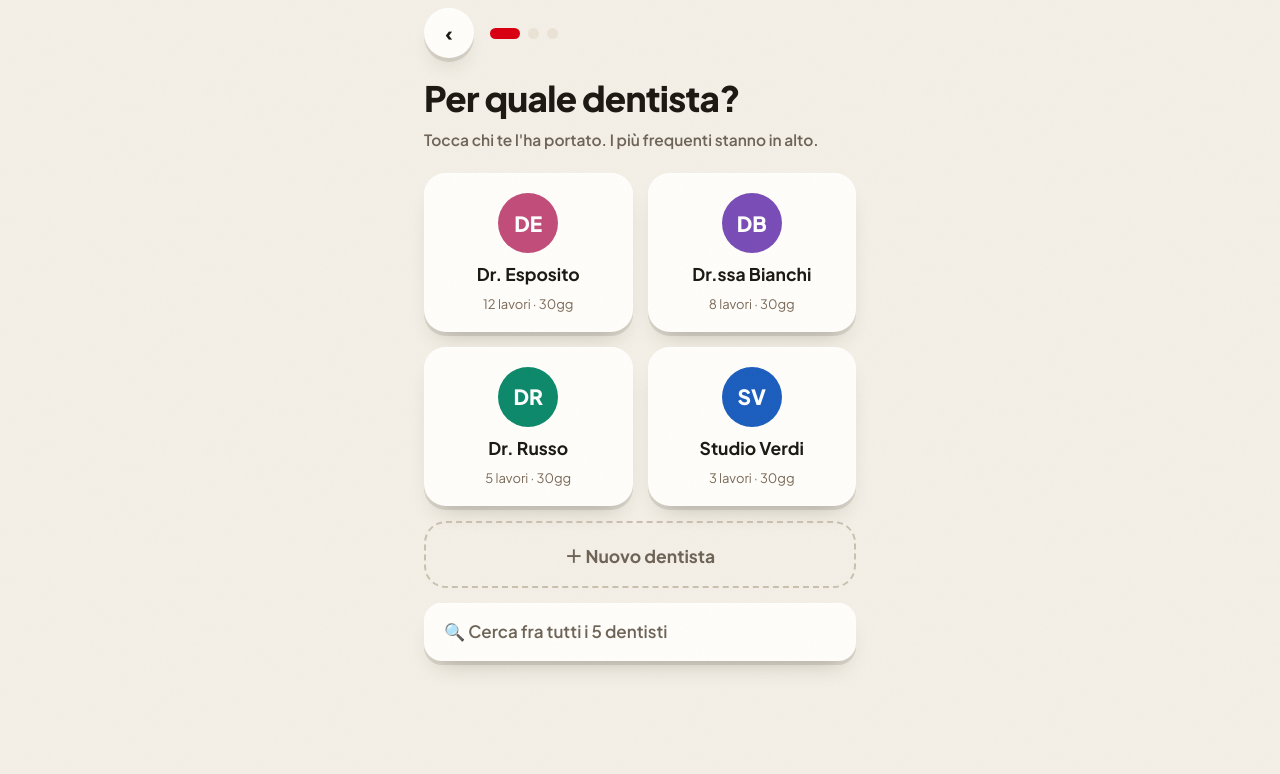
Test: WizardNuovoLavoro — wiring NuovoDentistaSheet (Task 9, A7) › creazione riuscita → sheet chiuso e wizard avanza al Passo 2 col dentista creato selezionato
This screenshot has width=1280, height=774.
Click the button "＋ Nuovo dentista": click(640, 554) [424, 520, 856, 588]
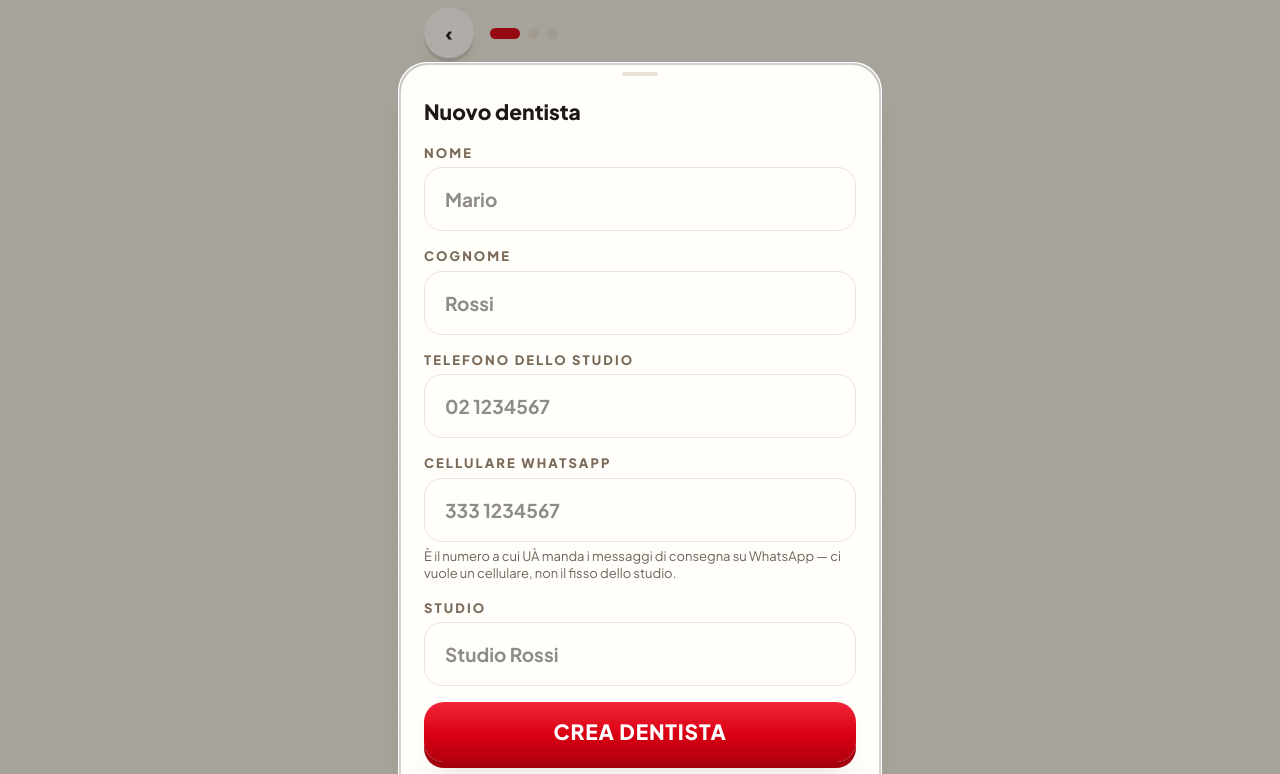
In the field labelled "Nome": (640, 199) [424, 167, 856, 231], type "Anna"
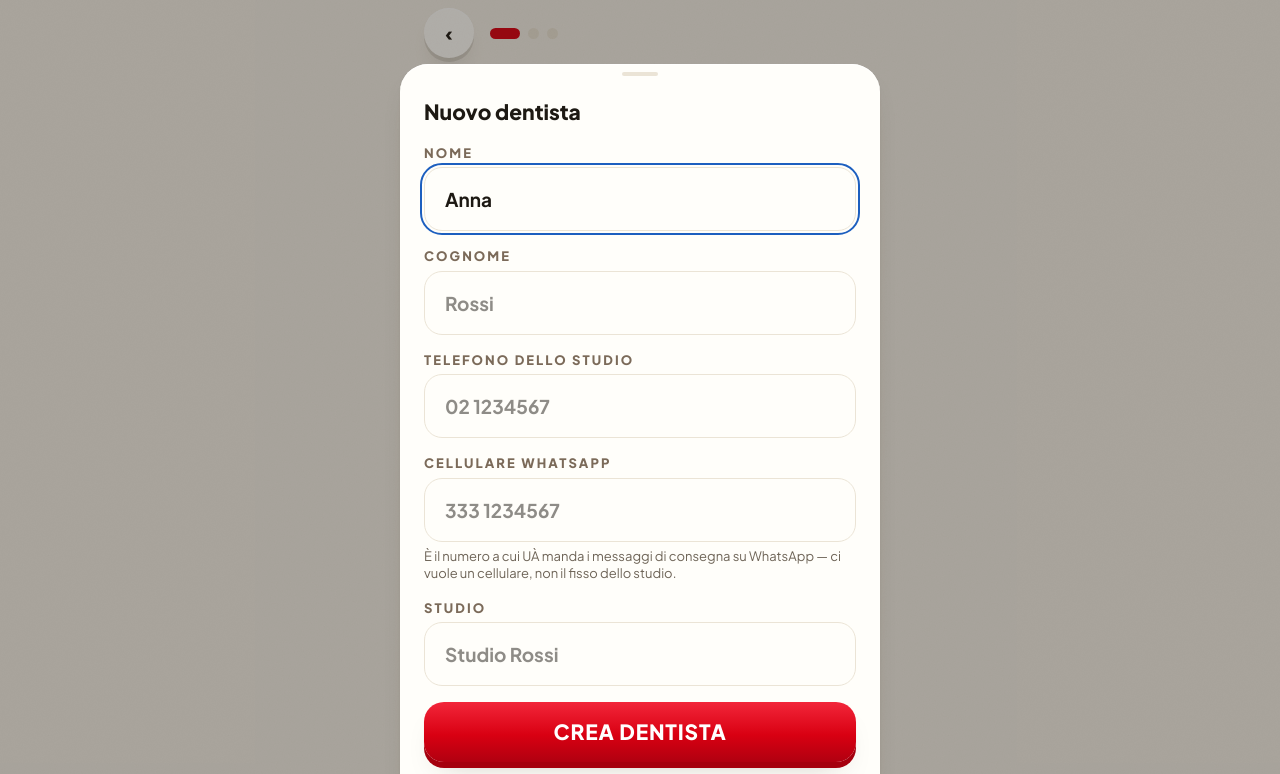
In the field labelled "Cognome": (640, 302) [424, 270, 856, 334], type "Neri"
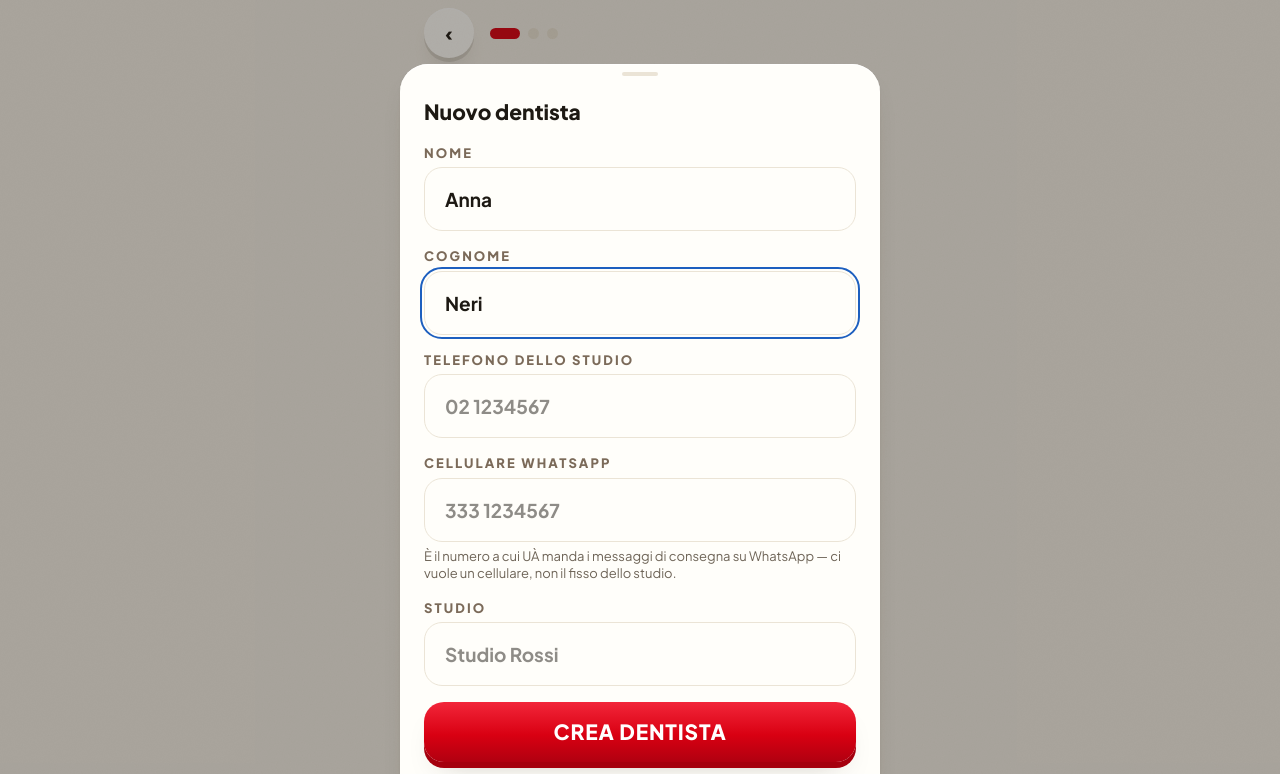
Click the button "Crea dentista": click(640, 732) [424, 702, 856, 762]
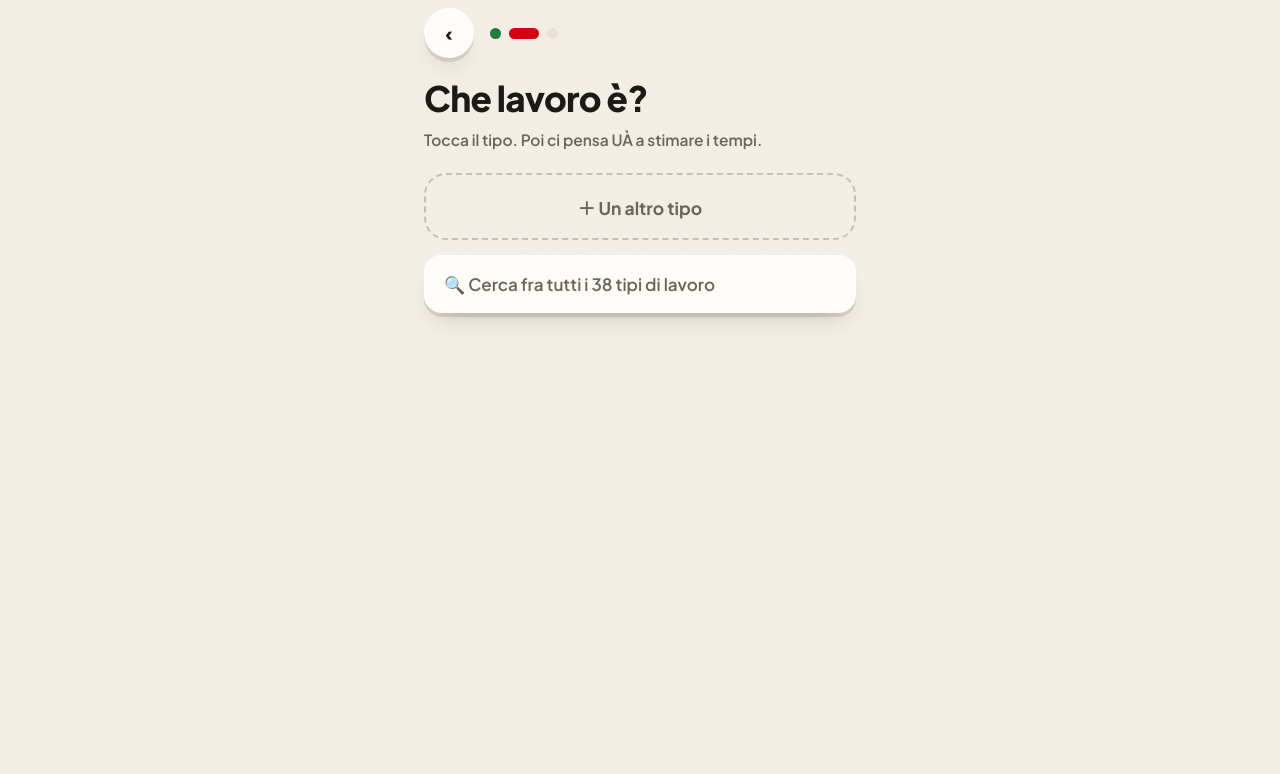
Expected: the heading "Che lavoro è?" is shown, [424, 76, 648, 120]
Expected: the button "Nuovo dentista" is gone
